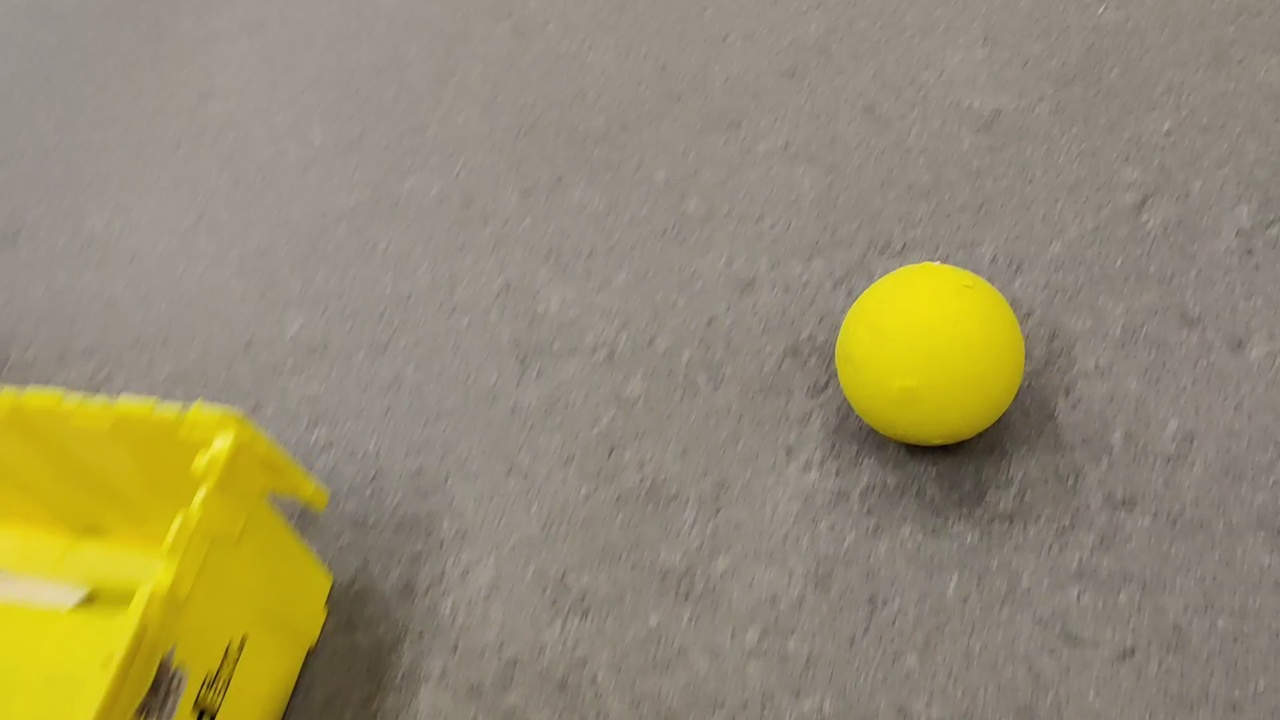Ball: (830, 262, 1029, 446)
